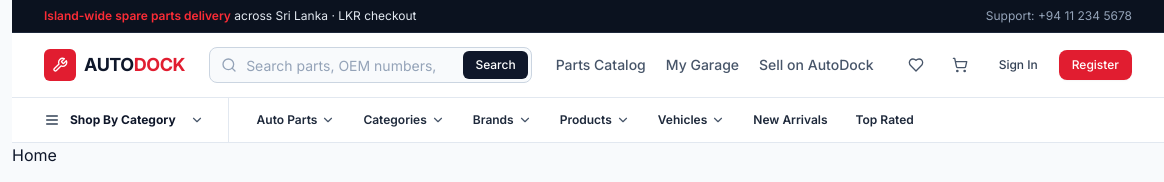
Extracted Header, Footer & Layout Components › Header › submits desktop search and navigates to /products with query param
Type "Brake Pad" into the search field labelled "Search parts" at (370, 65), box [209,47,532,83]
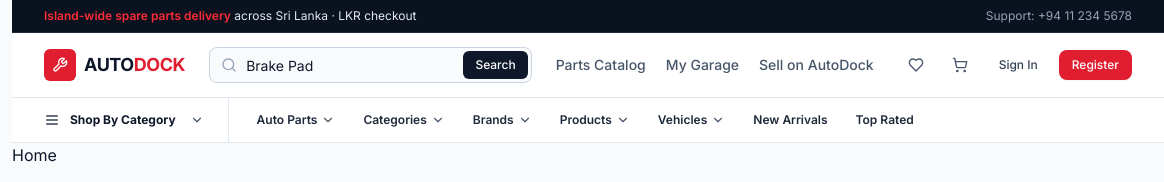
Submit the form named "Search parts", box [209,47,532,83]
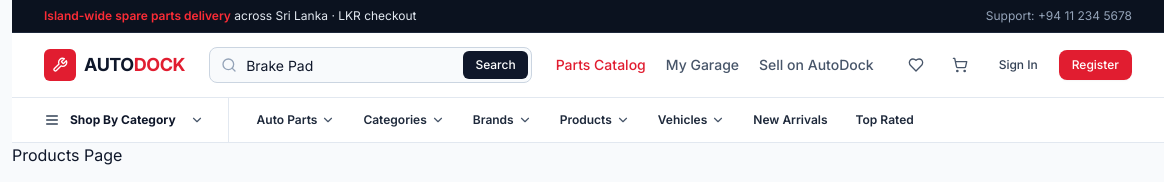
Check: the text "Products Page" is shown, box [12,145,122,165]
